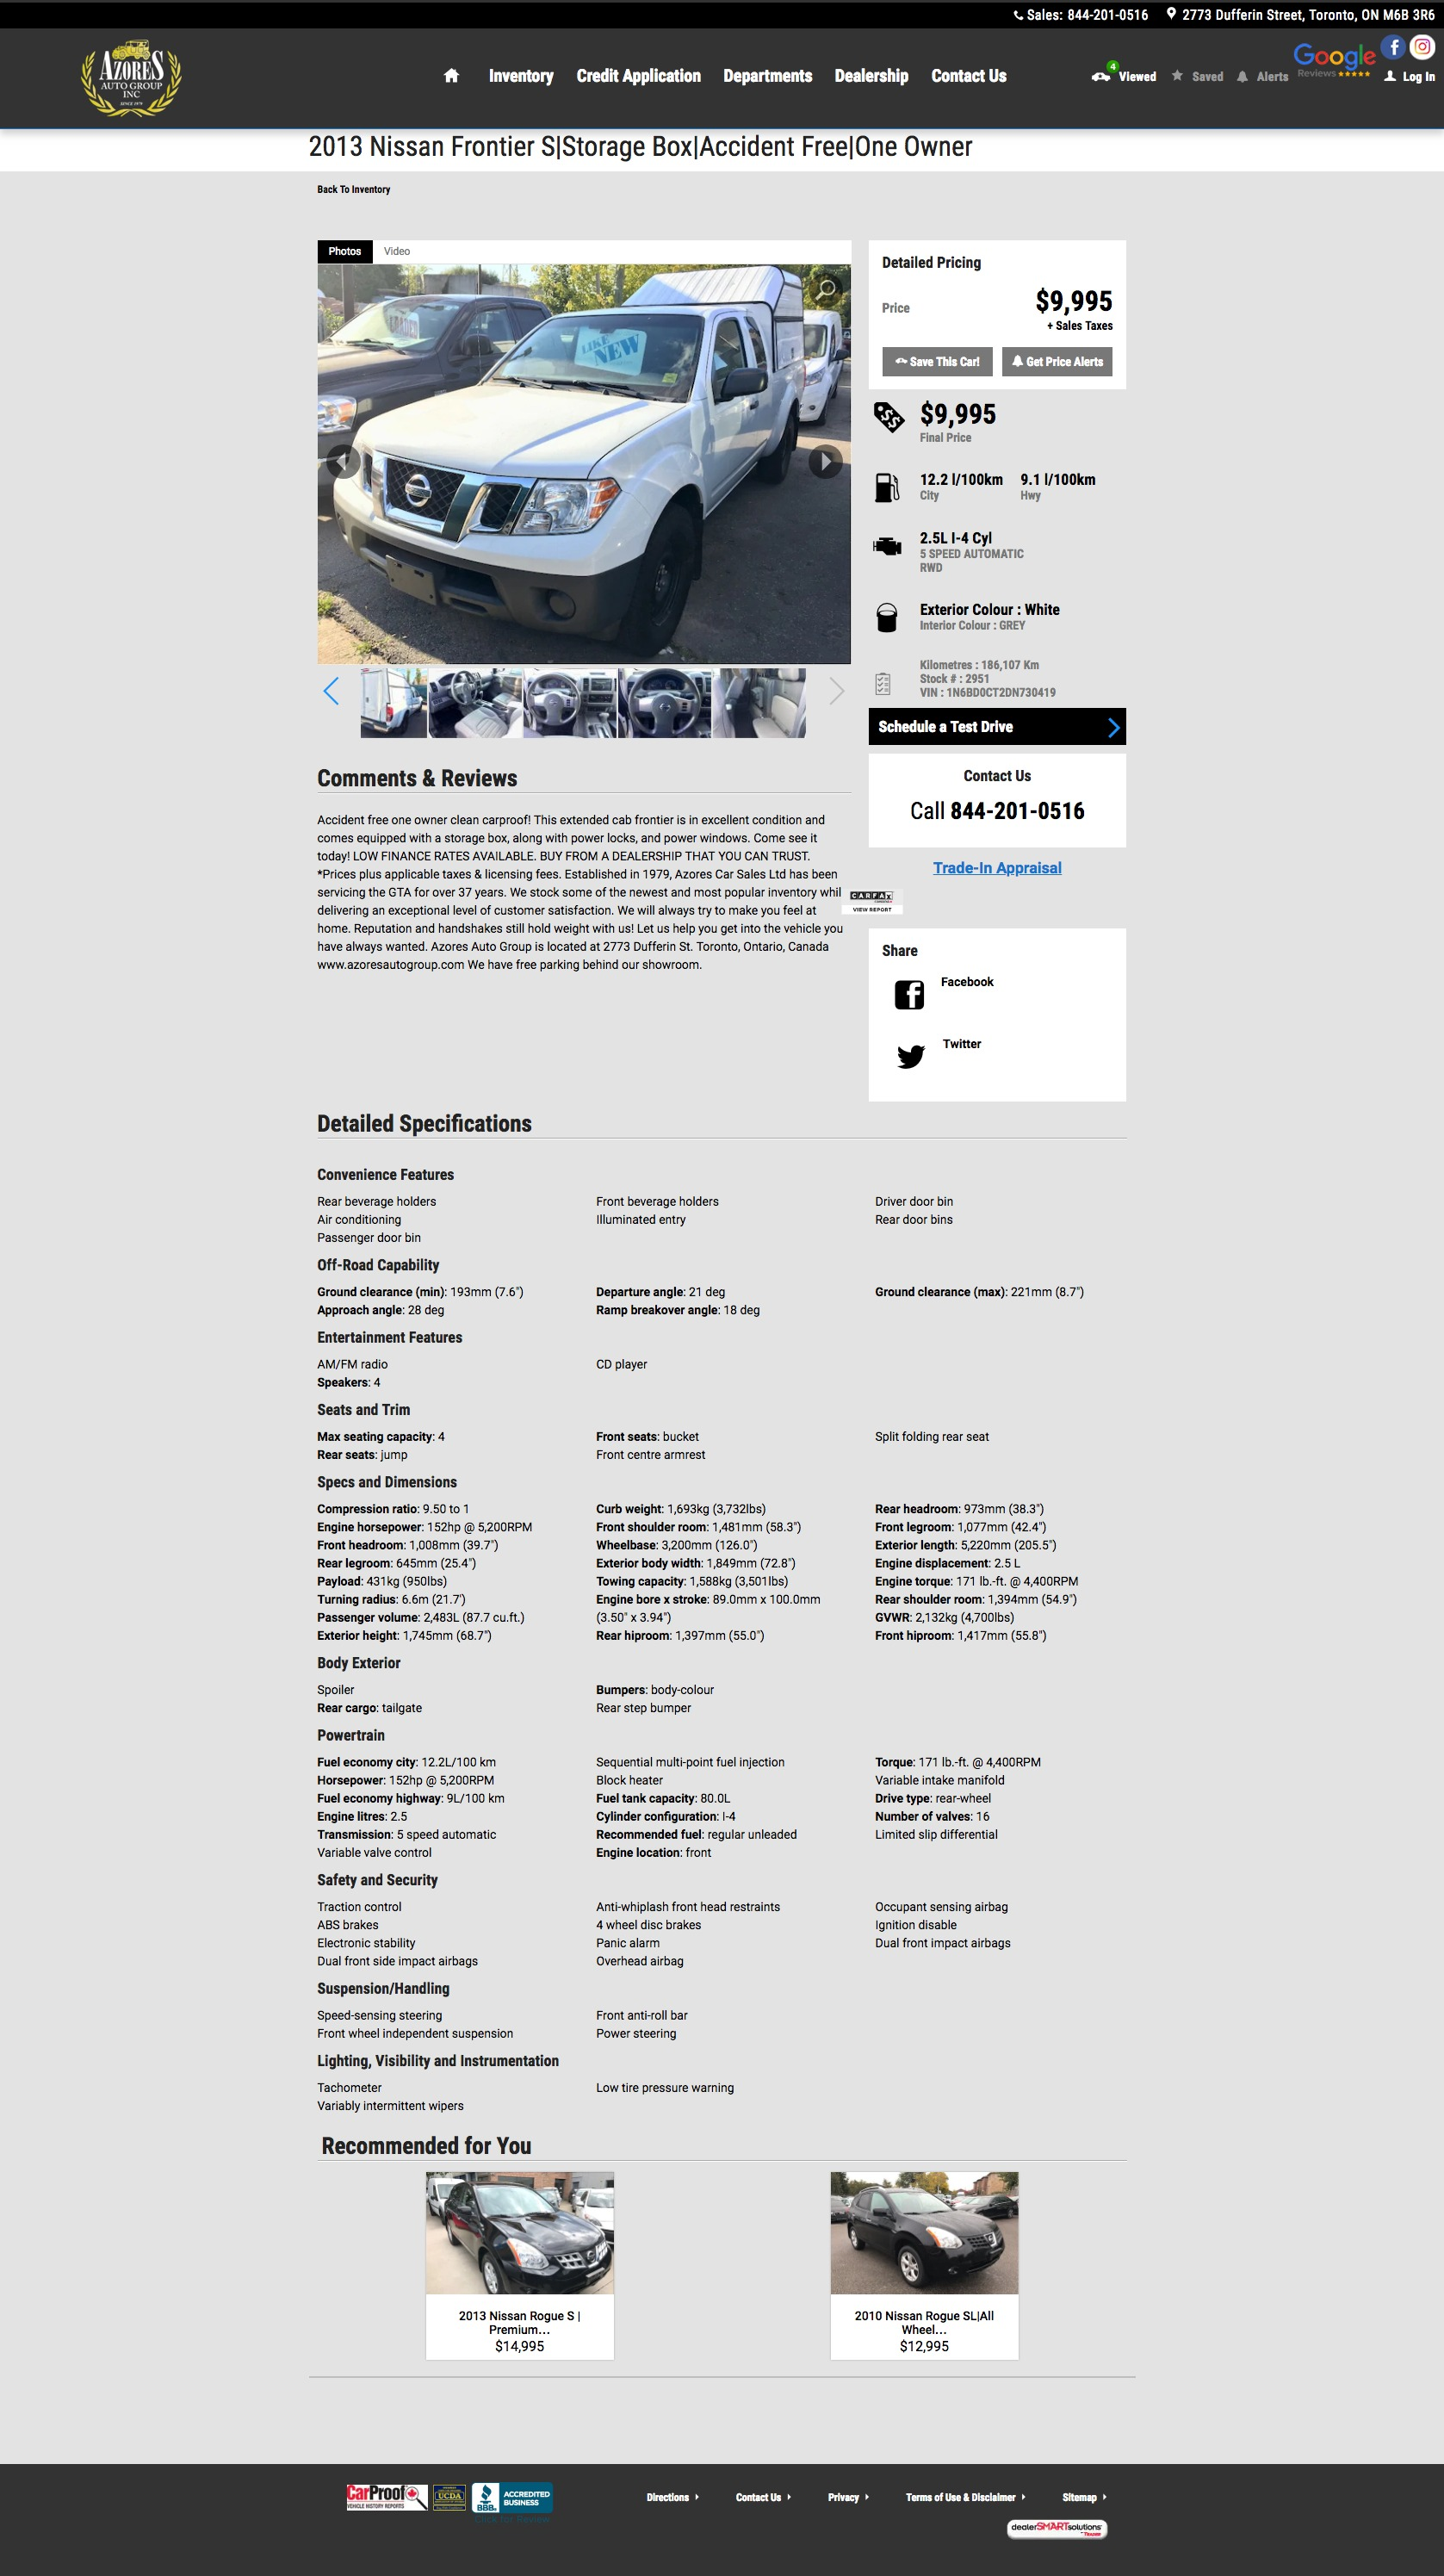car: (830, 678, 846, 706)
